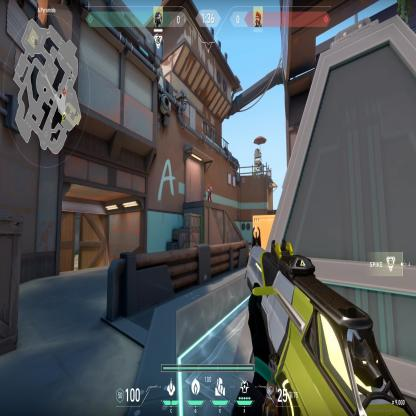enemy: (207, 182, 212, 203)
